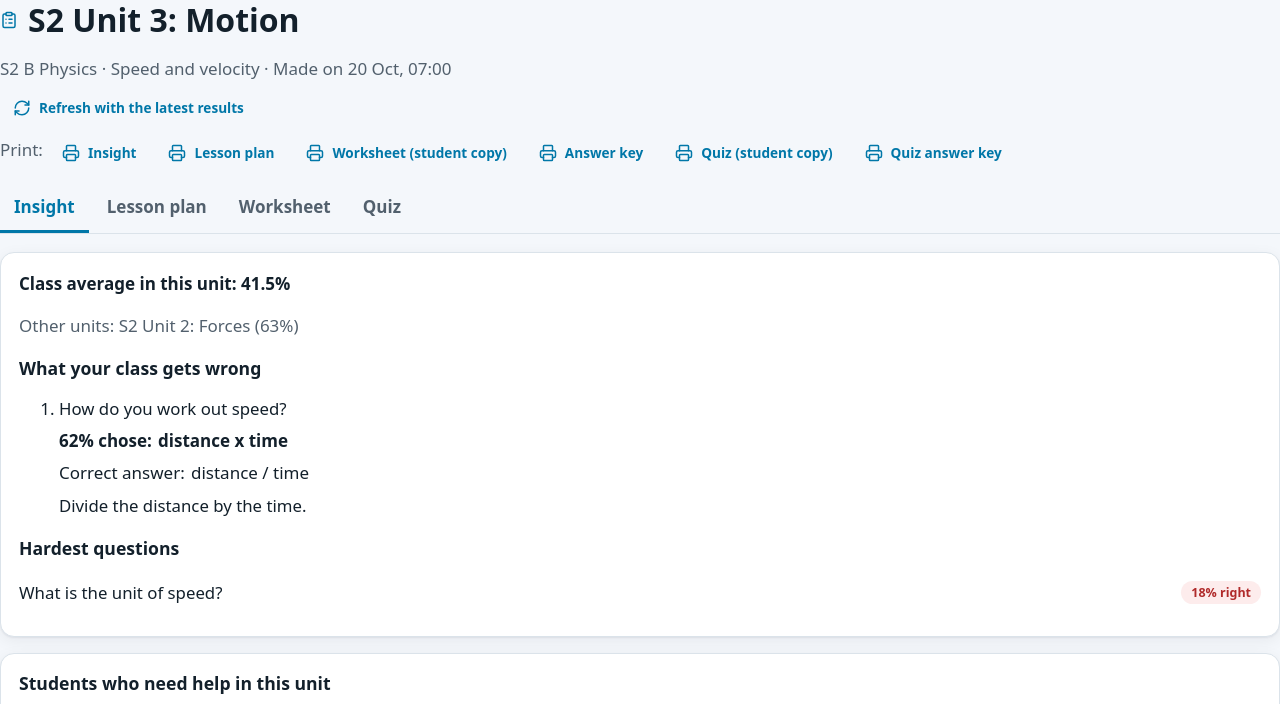
Test: Teaching pack page › assigning the quiz posts what and due date
The image size is (1280, 704).
Click the tab "Quiz".
click(382, 208)  # box [349,184,415,233]
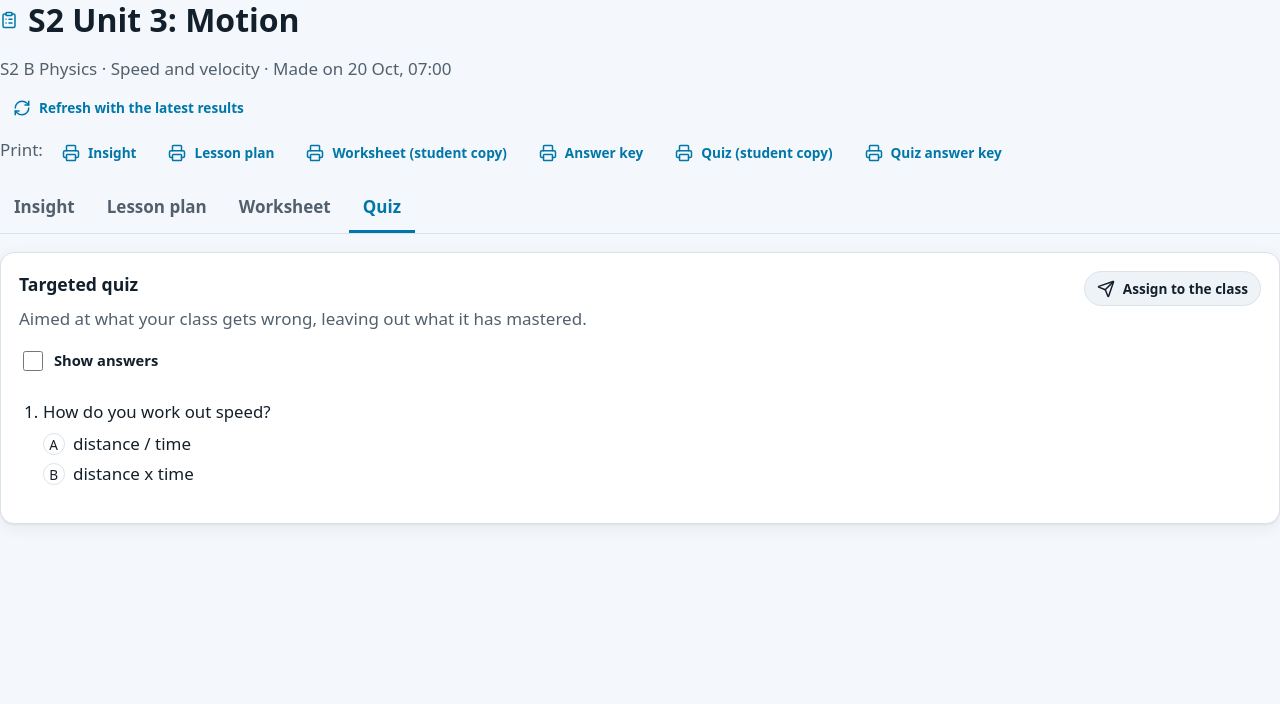
Click the button "Assign to the class".
click(1172, 289)  # box [1084,271,1261,306]
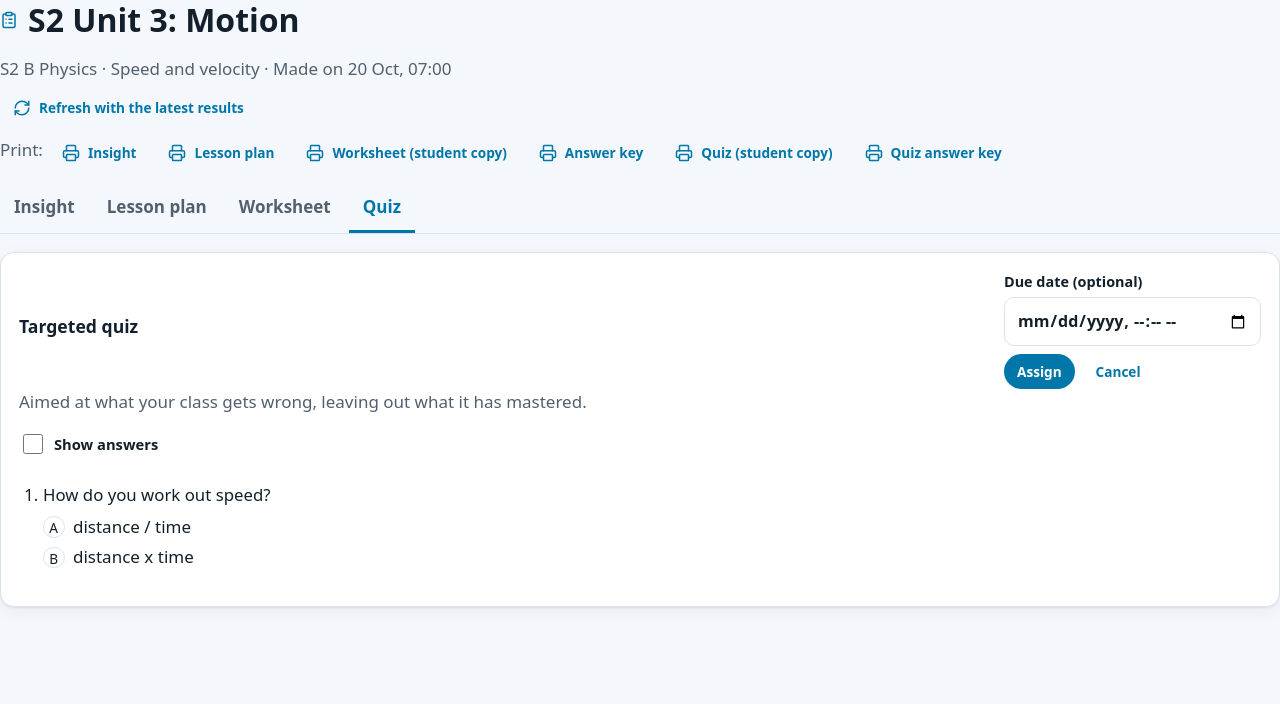
Type "2026-11-01T10:00" into the field labelled "Due date (optional)".
click(1132, 322); type("2026-11-01T10:00")  # box [1004,297,1261,346]
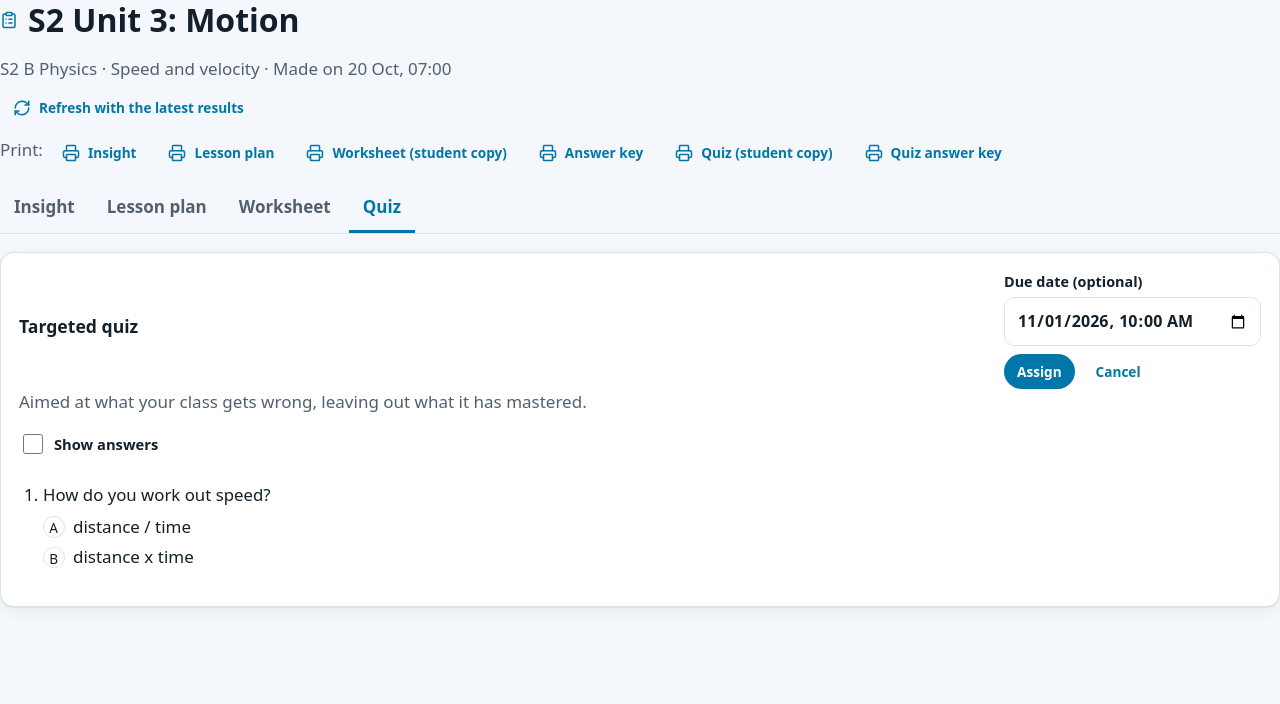
Click the button "Assign".
click(1039, 372)  # box [1004,354,1075,389]
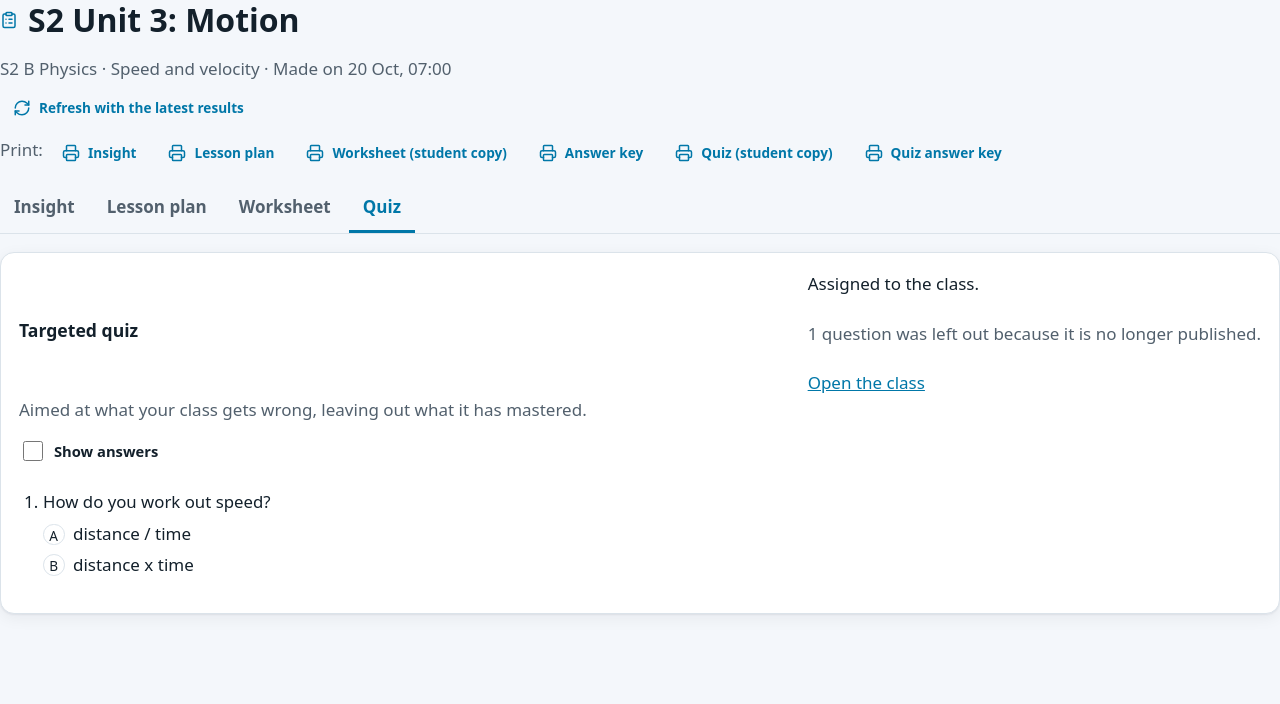
Expected: the text "Assigned to the class." is shown, [808,272,979,295]
Expected: the text "1 question was left out because it is no longer published." is shown, [808,321,1261,347]
